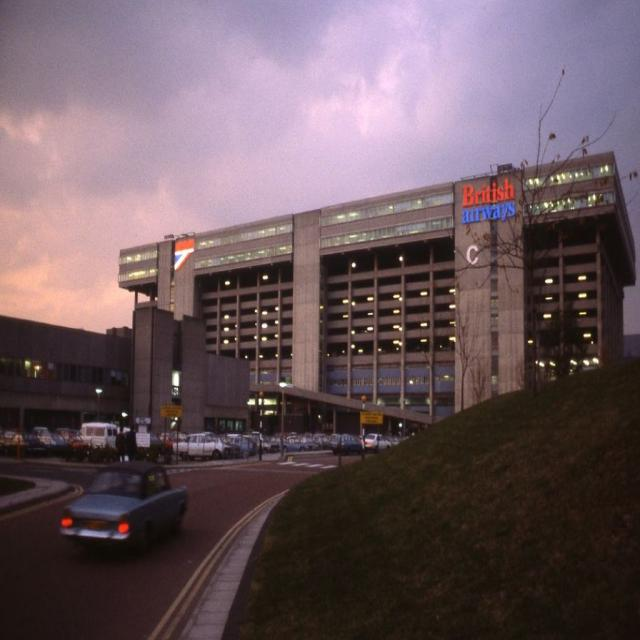car: (57, 455, 184, 552)
